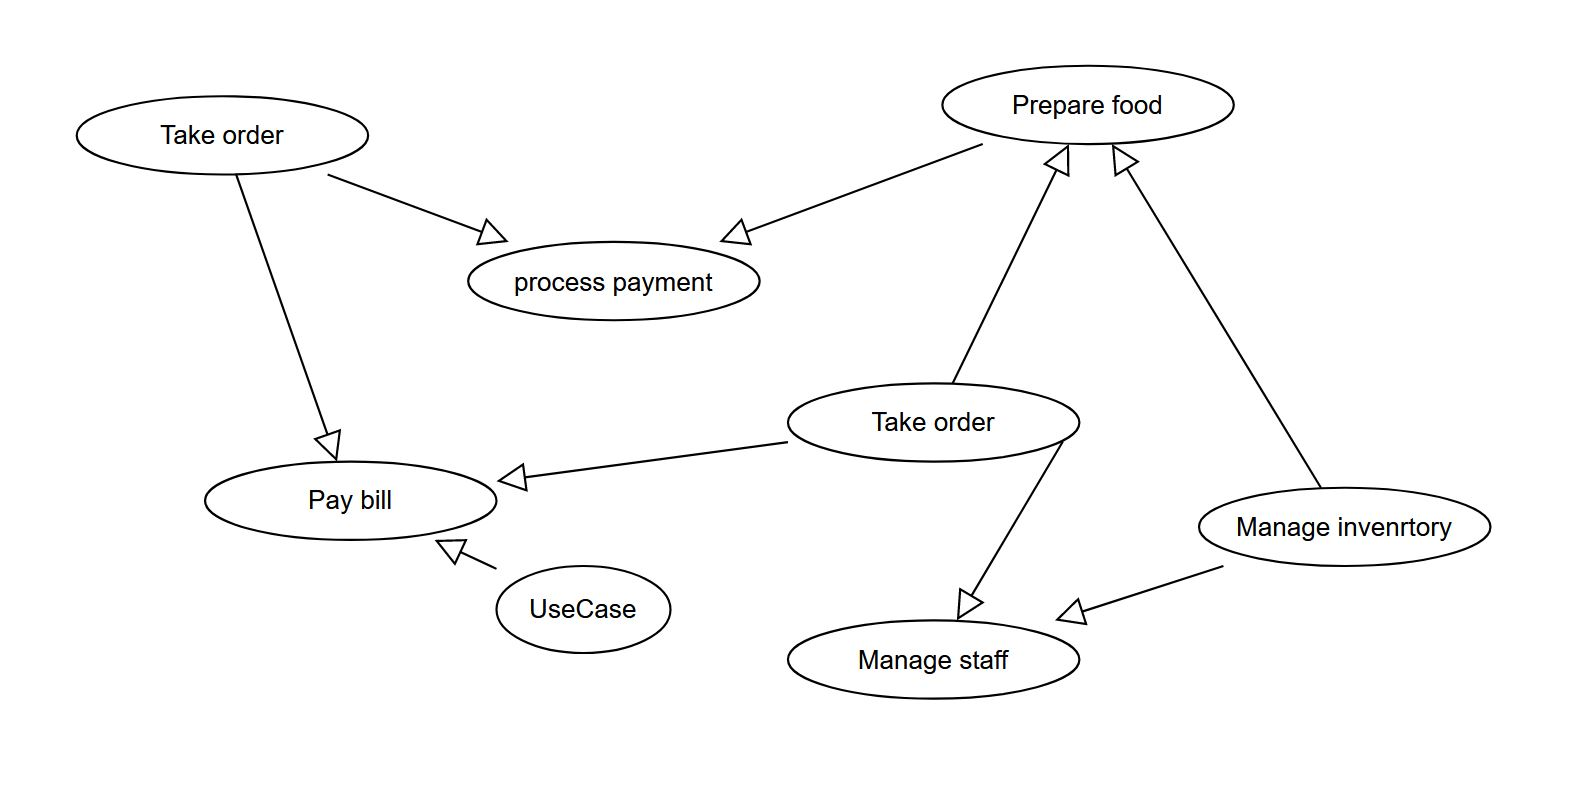generalization: (1111, 143, 1317, 486), (234, 173, 338, 460), (951, 144, 1073, 383), (724, 142, 985, 242), (954, 438, 1063, 621), (499, 436, 790, 489), (325, 172, 507, 246), (1056, 563, 1225, 622), (431, 537, 496, 573)
text: (1230, 509, 1456, 547), (508, 265, 714, 299), (849, 642, 1013, 679), (1010, 89, 1172, 122), (526, 585, 638, 629), (871, 405, 996, 441), (156, 119, 287, 152), (296, 486, 398, 513)
use_case: (466, 241, 762, 325), (201, 460, 498, 542), (70, 94, 371, 175), (786, 381, 1079, 461), (943, 65, 1234, 144), (1201, 487, 1491, 565), (788, 620, 1080, 695), (495, 564, 670, 655)
